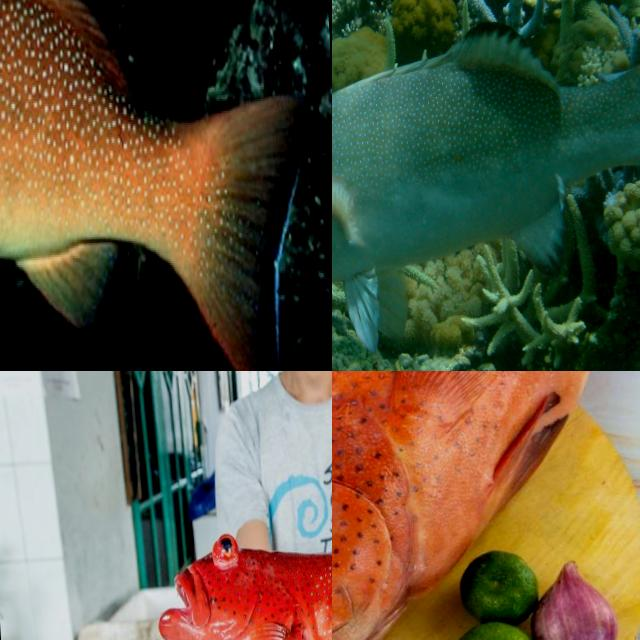Plectropomus-leopardus: (0, 0, 332, 371), (332, 0, 640, 367), (332, 371, 640, 640), (148, 505, 332, 640)
